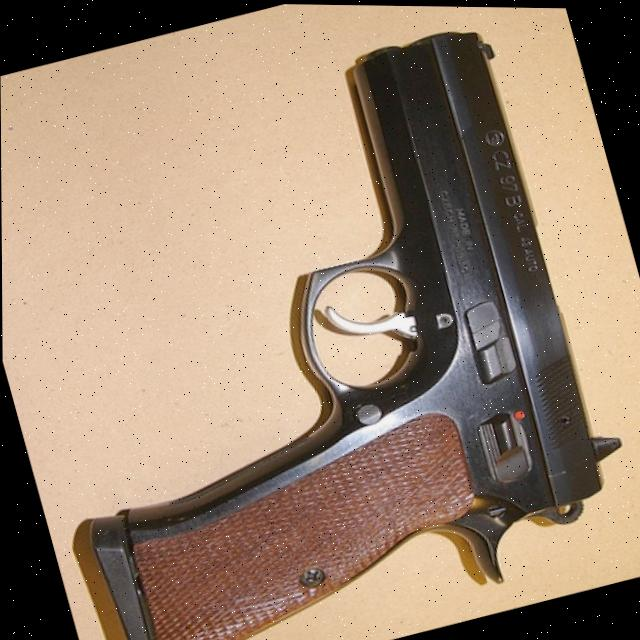pistol: (0, 4, 640, 640)
